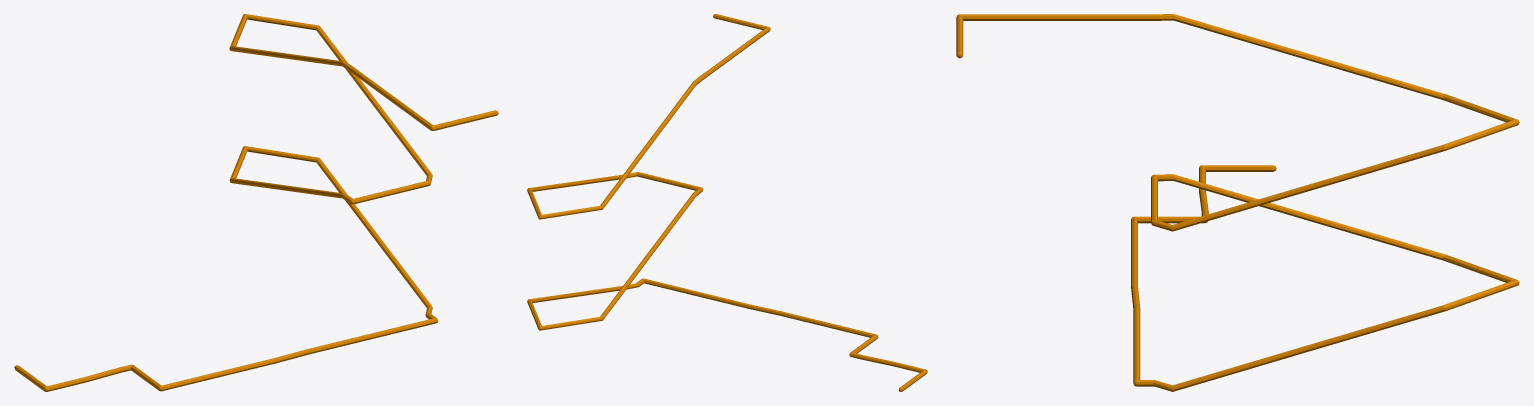
The picture shows the model from 3 angles, left to right: view 1: azimuth 30°, elevation 25°; view 2: azimuth 150°, elevation 25°; view 3: azimuth 270°, elevation 25°; orthographic projection. The views are drawn at different scales.
Size of the model in its own units: 1492 by 1020 by 1592.
